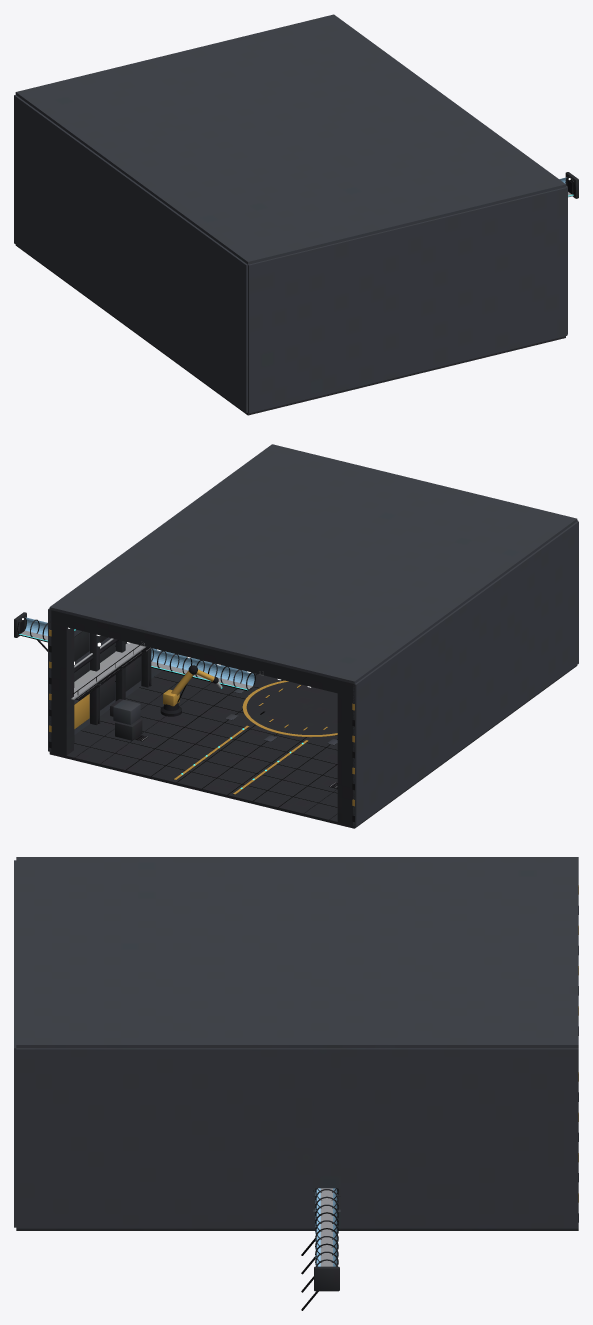
File: game-hangar.glb
3 views of the same model, one above another, from view 1: azimuth 30°, elevation 25°; view 2: azimuth 150°, elevation 25°; view 3: azimuth 270°, elevation 25° (orthographic). The views are drawn at different scales.
Parts seen in each view (by area): view 1: hangar; view 2: hangar; view 3: hangar.
Boxes of the visible parts, x1,y1,x2,y2 form: hangar: [14, 14, 578, 415]; hangar: [14, 444, 578, 828]; hangar: [14, 857, 578, 1310].
Size of the model in its own units: 103 by 36.71 by 91.45.
4 materials, 1 textured.
